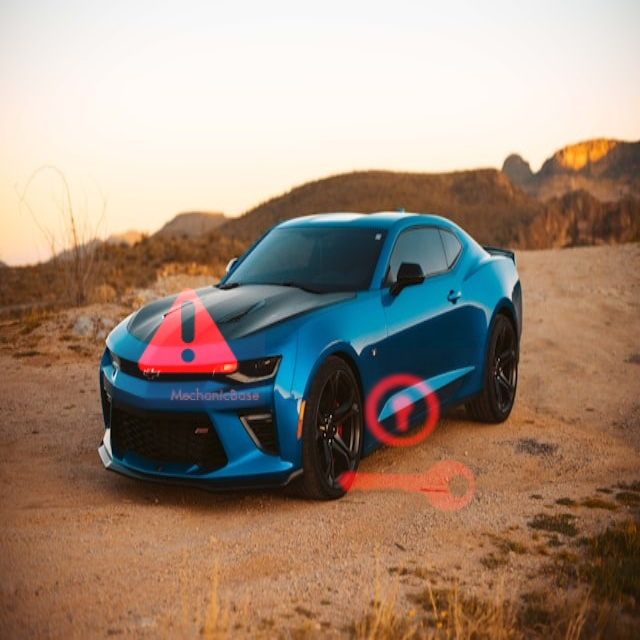symbol: (310, 348, 505, 543), (110, 253, 265, 408)
